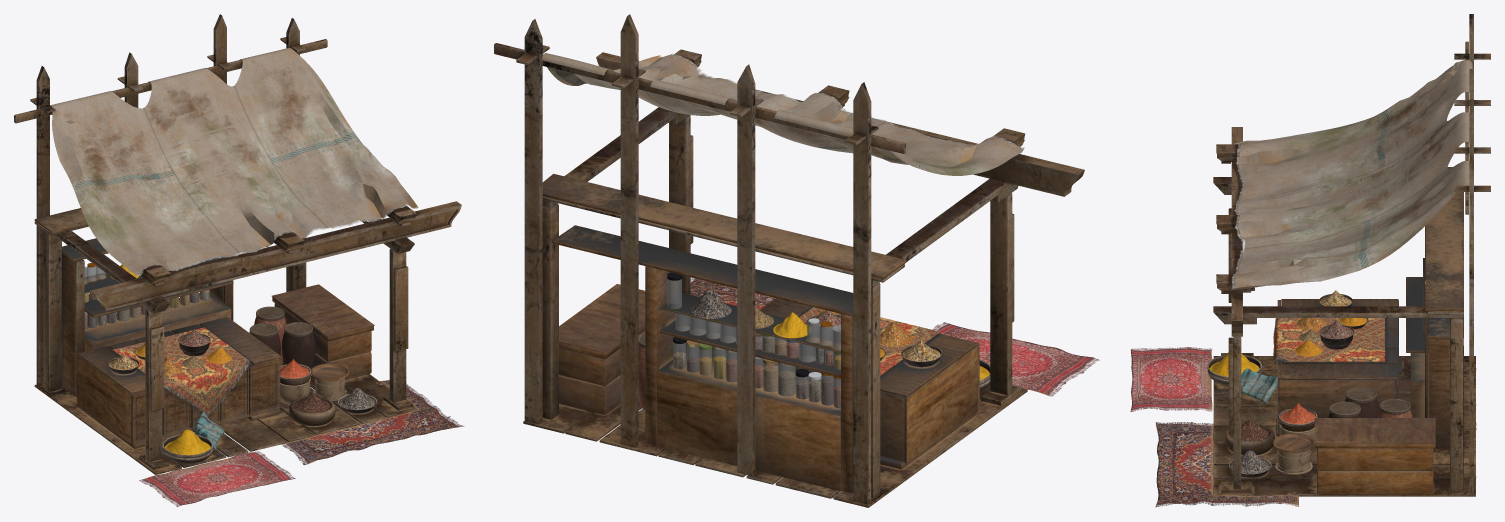
Rendered from xi_oam_stall_spice.gltf.
3 renders of one model, left to right at view 1: azimuth 30°, elevation 25°; view 2: azimuth 150°, elevation 25°; view 3: azimuth 270°, elevation 25°, orthographic. The views are drawn at different scales.
Visible parts, largest first — view 1: xi_oam_stall_spice; view 2: xi_oam_stall_spice; view 3: xi_oam_stall_spice.
Boxes of the visible parts, <box> form: xi_oam_stall_spice: <box>14,14,464,506</box>; xi_oam_stall_spice: <box>494,14,1099,507</box>; xi_oam_stall_spice: <box>1130,14,1490,507</box>.
Bounding box in the file's own units: 4.36 × 3.73 × 3.42.
Materials: 3 (3 with a texture image).
